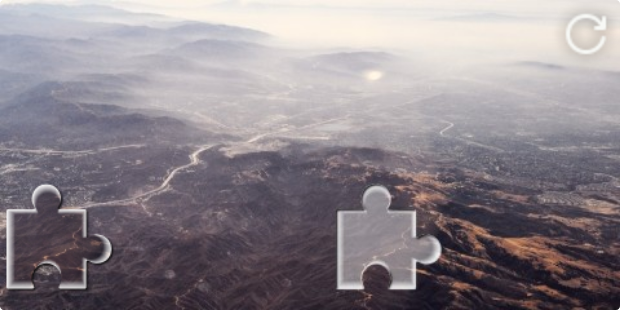target: (337, 185, 440, 290)
